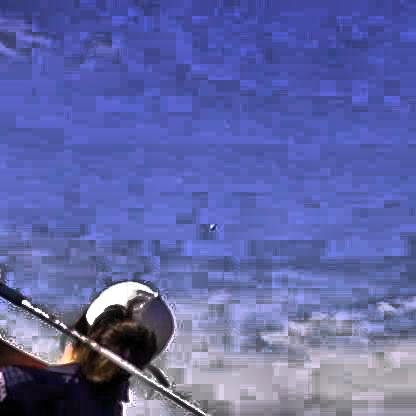golfball: (206, 220, 215, 228)
